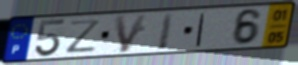5: (32, 18, 67, 58)
6: (229, 8, 266, 47)
I: (156, 11, 177, 52), (194, 12, 208, 48)
V: (112, 13, 149, 55)
Z: (65, 18, 104, 55)
